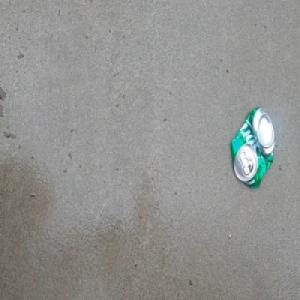SodaCan: (229, 104, 276, 191)
